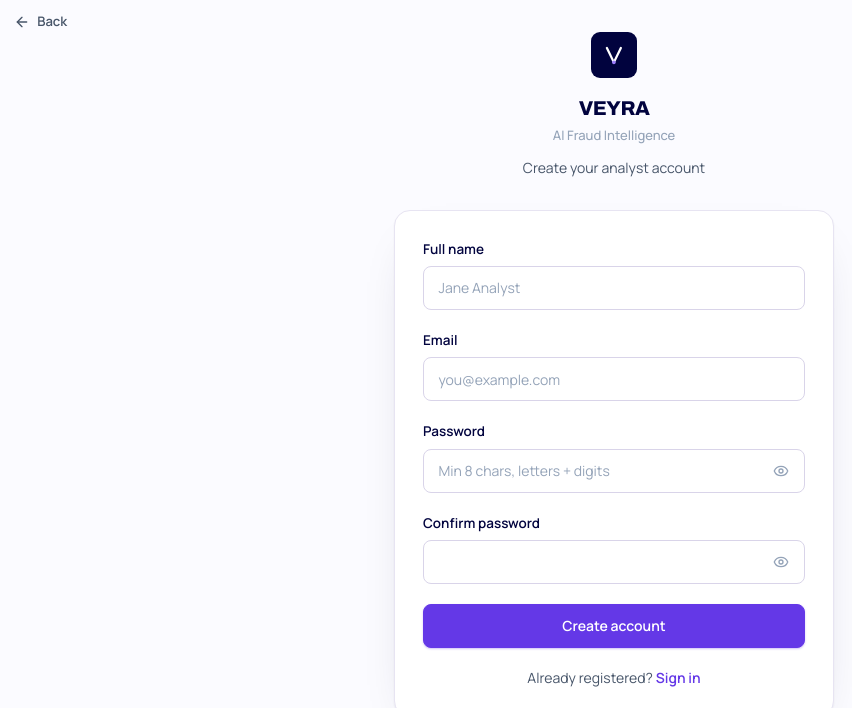
Test: Register page › blocks submit and shows field errors for invalid input
Type "not-an-email" into the field labelled "Email" at (614,379), box top-left (423, 357), bottom-right (805, 401)
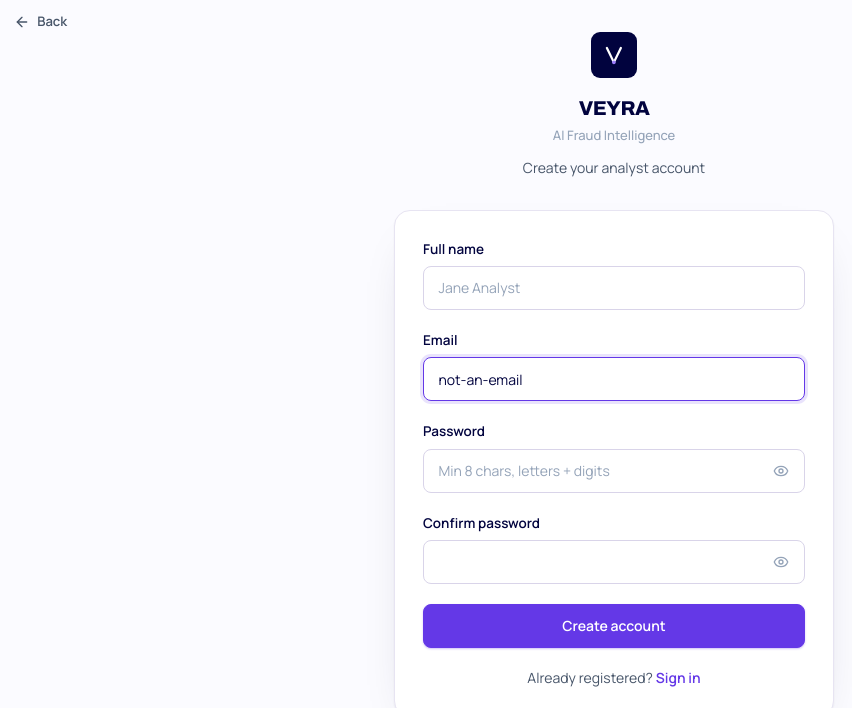
Type "short" into the password field labelled "Password" at (614,471), box top-left (423, 449), bottom-right (805, 493)
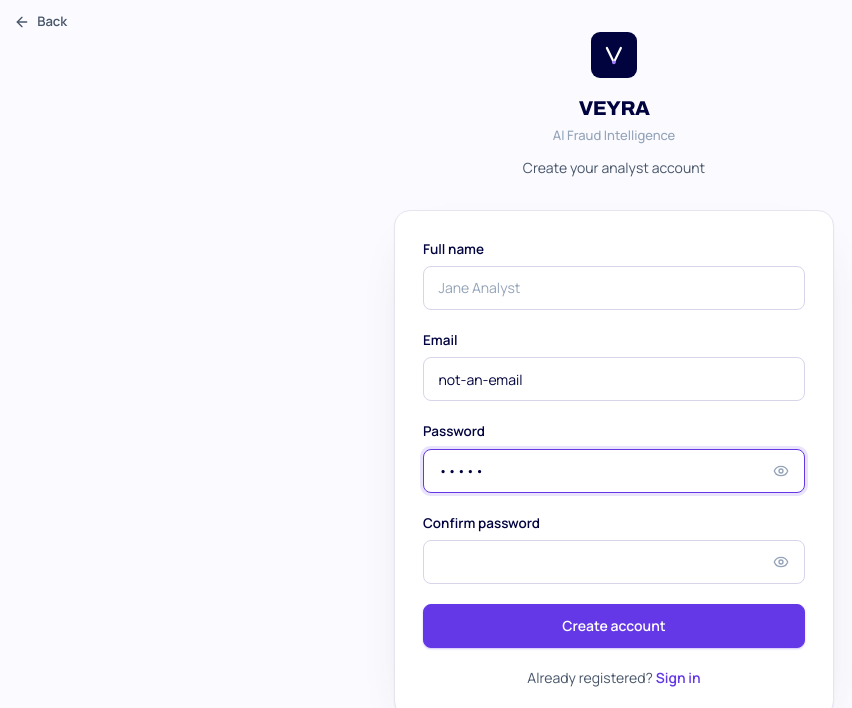
Type "different" into the password field labelled "Confirm password" at (614,562), box top-left (423, 540), bottom-right (805, 584)
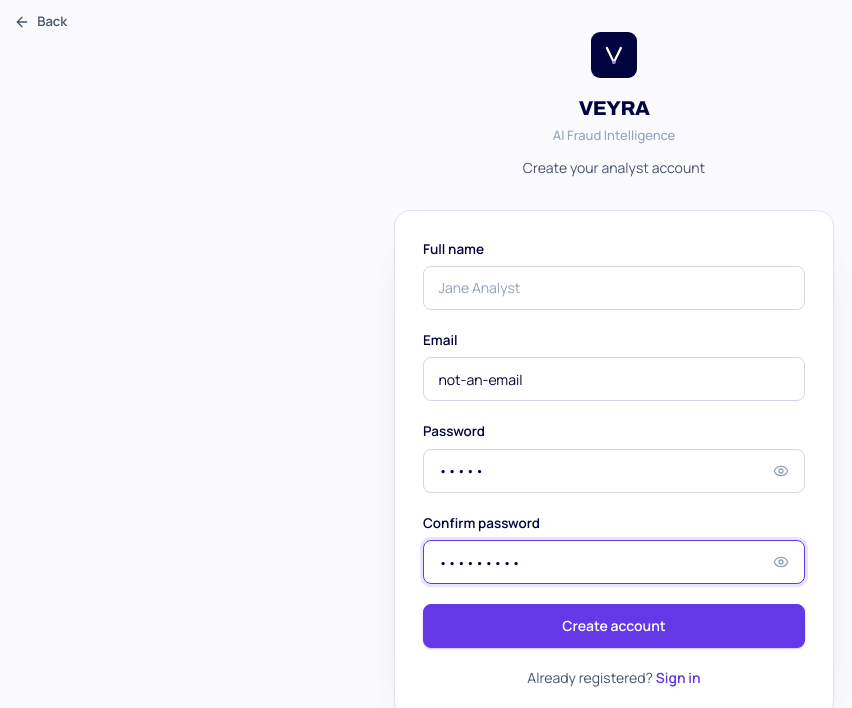
Click the button "Create account" at (614,626), box top-left (423, 604), bottom-right (805, 648)
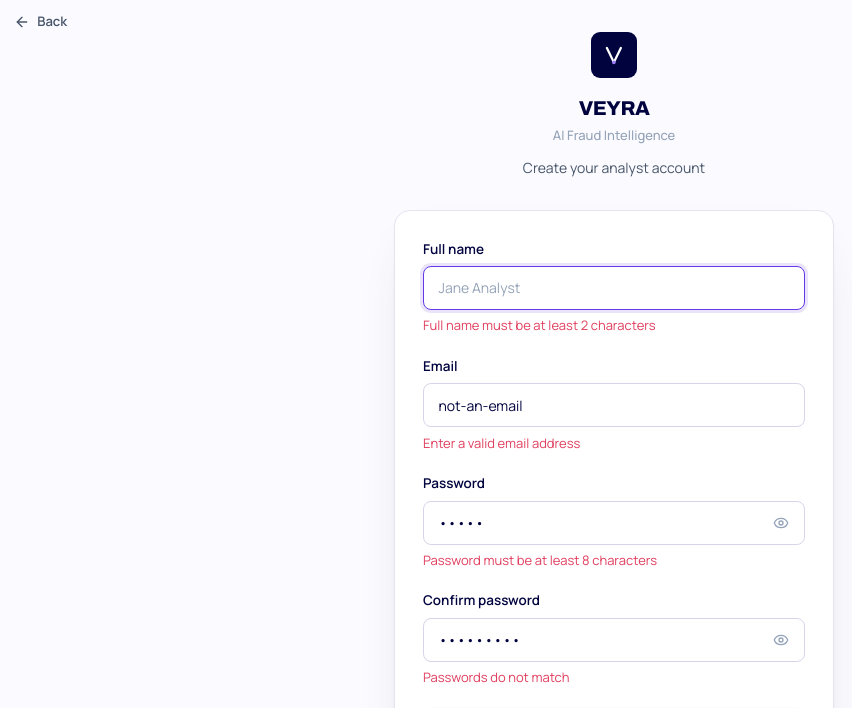
Check: the text "Enter a valid email address" is shown, box top-left (423, 434), bottom-right (580, 452)
Check: the text "Password must be at least 8 characters" is shown, box top-left (423, 551), bottom-right (657, 569)
Check: the text "Passwords do not match" is shown, box top-left (423, 668), bottom-right (570, 686)
